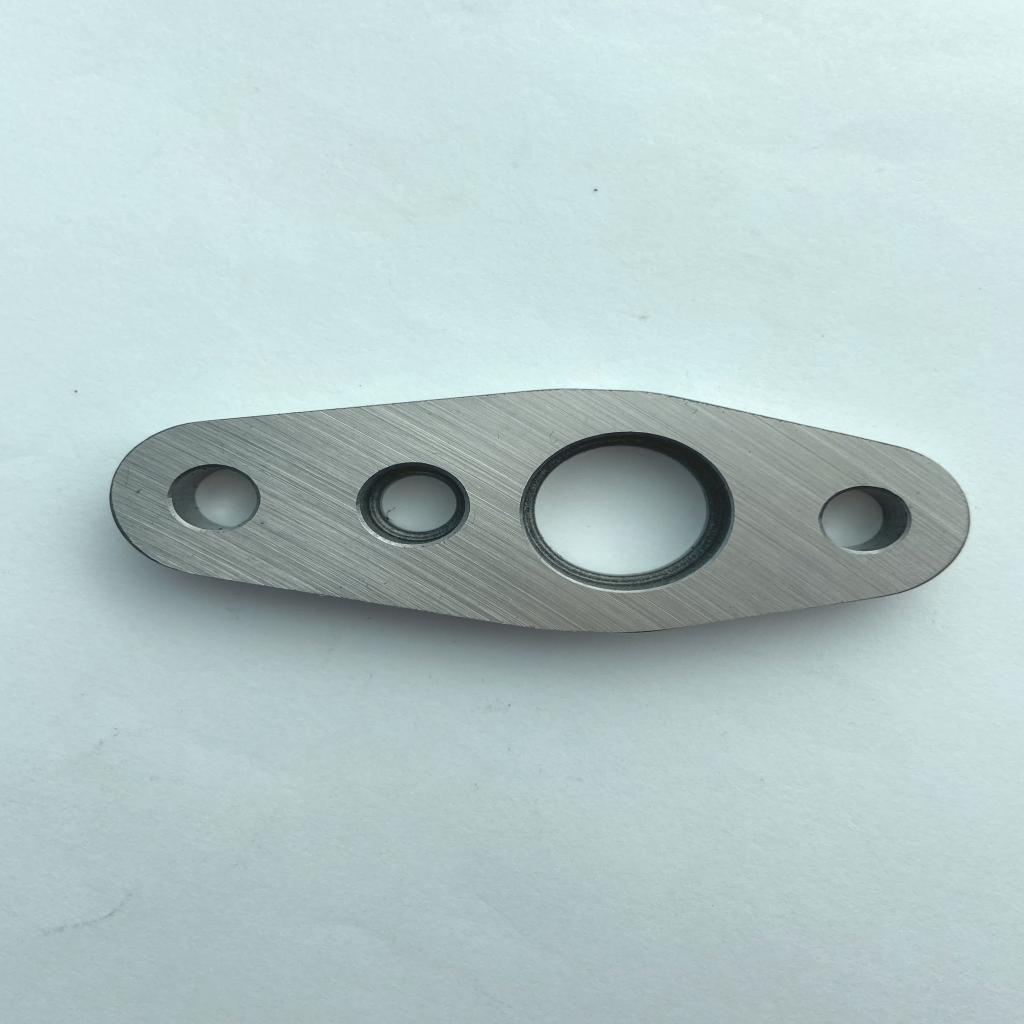lines: (122, 462, 146, 500)
